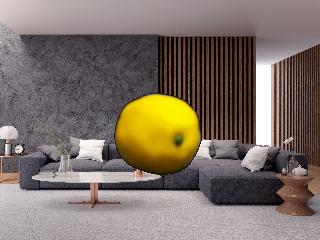lemon: (114, 96, 198, 176)
